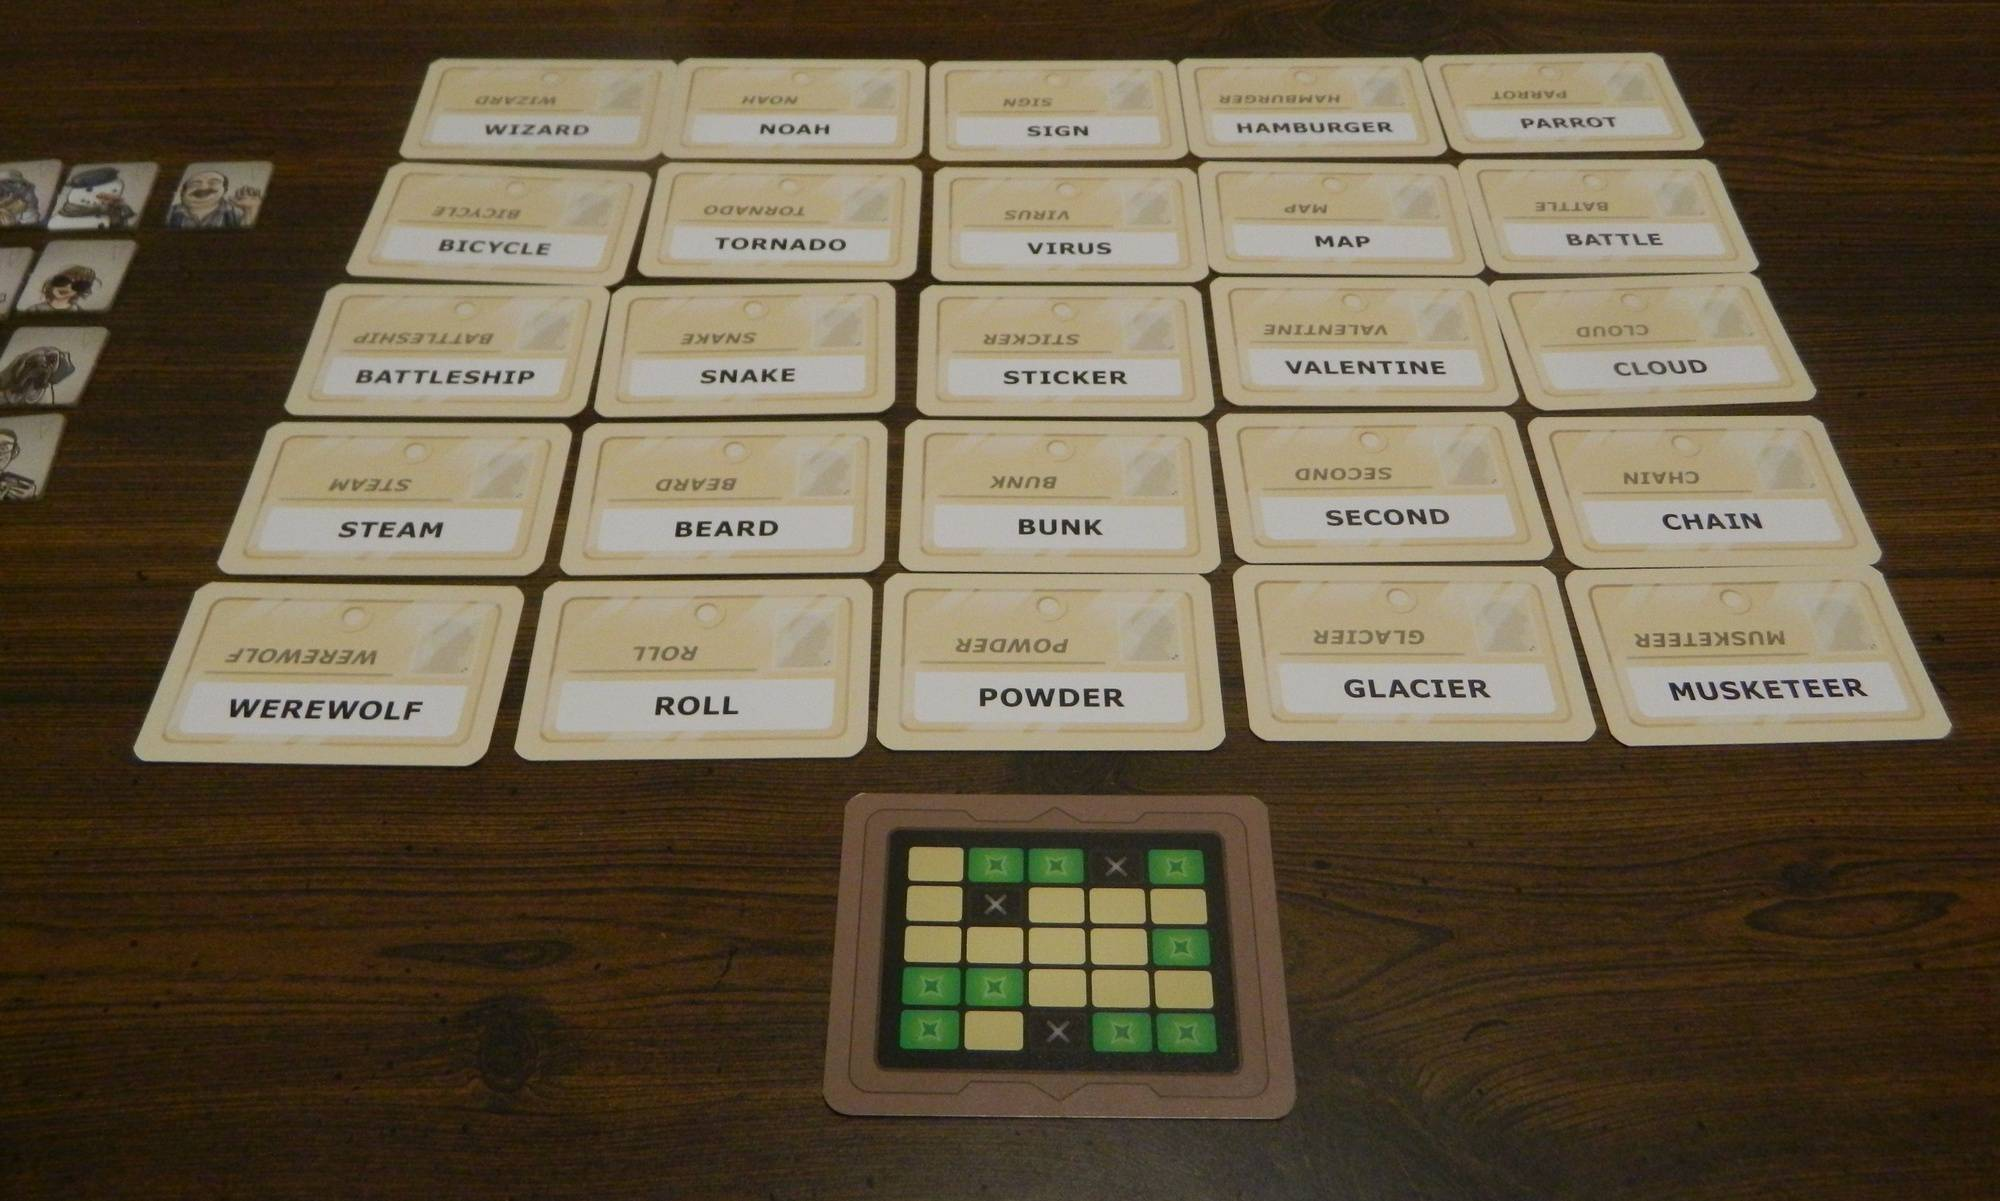A: (1703, 504, 1729, 548), (393, 514, 420, 556), (737, 358, 760, 403), (714, 516, 737, 553), (1303, 351, 1324, 388), (1583, 227, 1603, 260), (789, 227, 807, 261), (376, 361, 393, 396), (1334, 228, 1353, 258), (1534, 110, 1551, 141), (794, 117, 814, 141), (1254, 114, 1271, 141), (537, 119, 553, 144)
